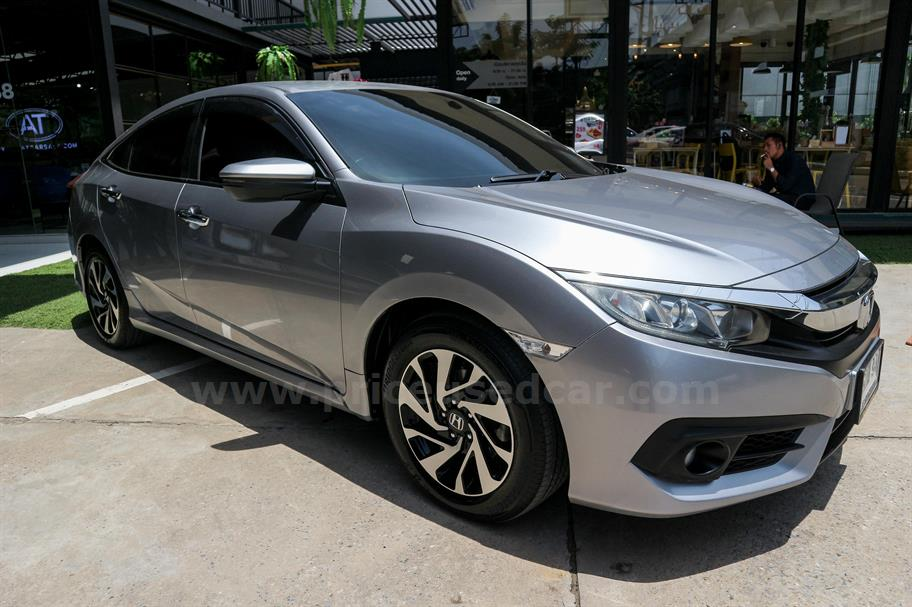sedan: (66, 74, 886, 529)
